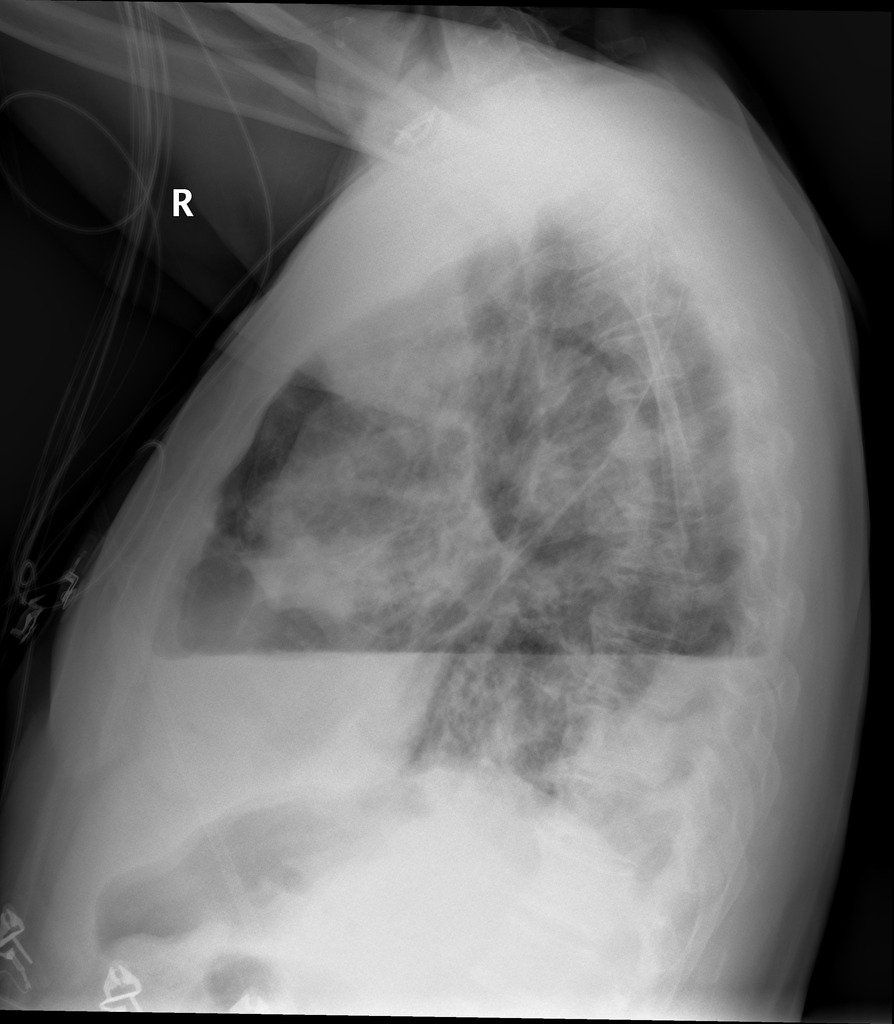cancer: (205, 292, 723, 708)
